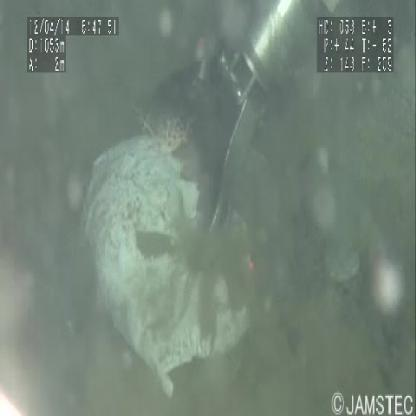Rác: (83, 139, 255, 400)
